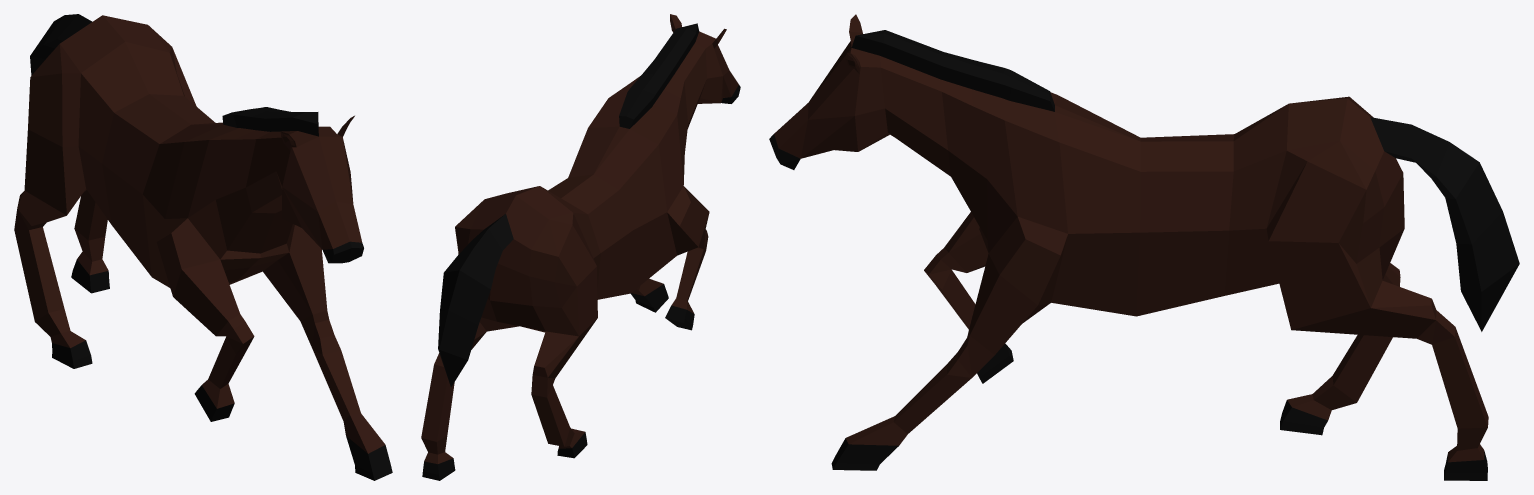
File: Horse_000010.obj
3 views of the same model, side by side, from view 1: azimuth 30°, elevation 25°; view 2: azimuth 150°, elevation 25°; view 3: azimuth 270°, elevation 25° (orthographic). The views are drawn at different scales.
Visible parts, largest first — view 1: Horse_Cylinder; view 2: Horse_Cylinder; view 3: Horse_Cylinder.
Part boxes in pixels (box(x1,y1,x2,y2)): Horse_Cylinder: box(14, 14, 392, 480); Horse_Cylinder: box(421, 14, 740, 480); Horse_Cylinder: box(769, 14, 1519, 480).
Bounding box in the file's own units: 2.66 × 6.14 × 9.92.
